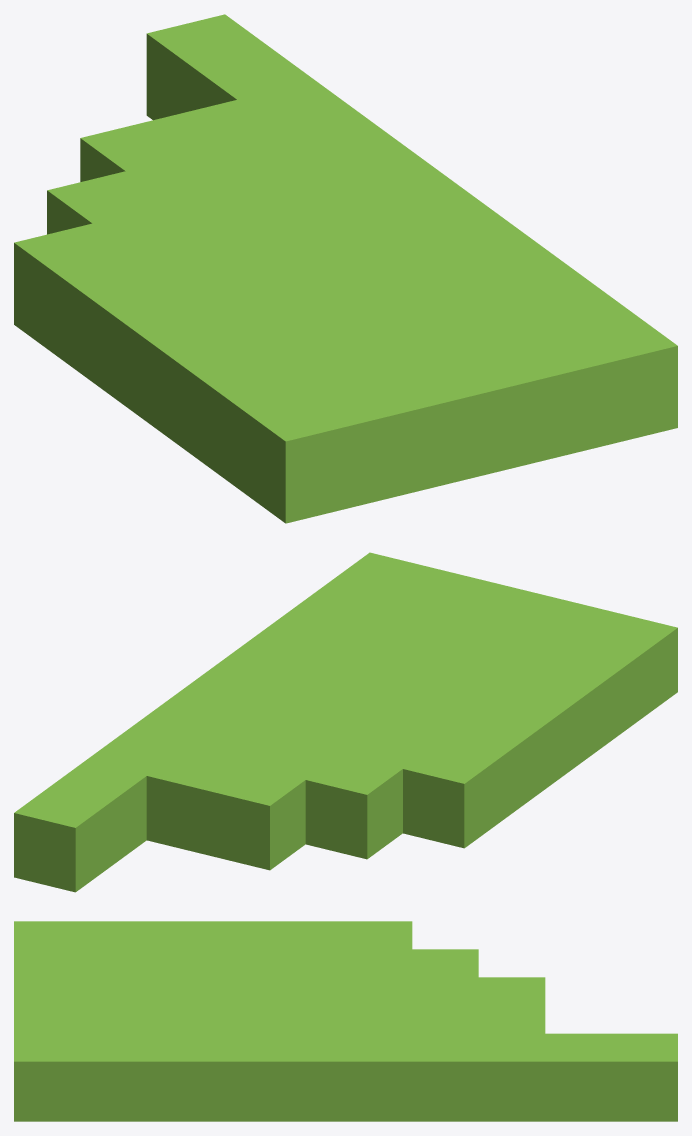
File: x_zem_0_15_1_mirror.fbx
The picture shows the model from 3 angles, top to bottom: view 1: azimuth 30°, elevation 25°; view 2: azimuth 150°, elevation 25°; view 3: azimuth 270°, elevation 25°; orthographic projection. The views are drawn at different scales.
Visible parts, largest first — view 1: x_zem_0_15_1_mirror1; view 2: x_zem_0_15_1_mirror1; view 3: x_zem_0_15_1_mirror1.
Part boxes in pixels (x1,y1,x2,y2): x_zem_0_15_1_mirror1: (14,14,677,523); x_zem_0_15_1_mirror1: (14,552,677,892); x_zem_0_15_1_mirror1: (14,921,677,1121).
Size of the model in its own units: 5 by 1 by 10.
